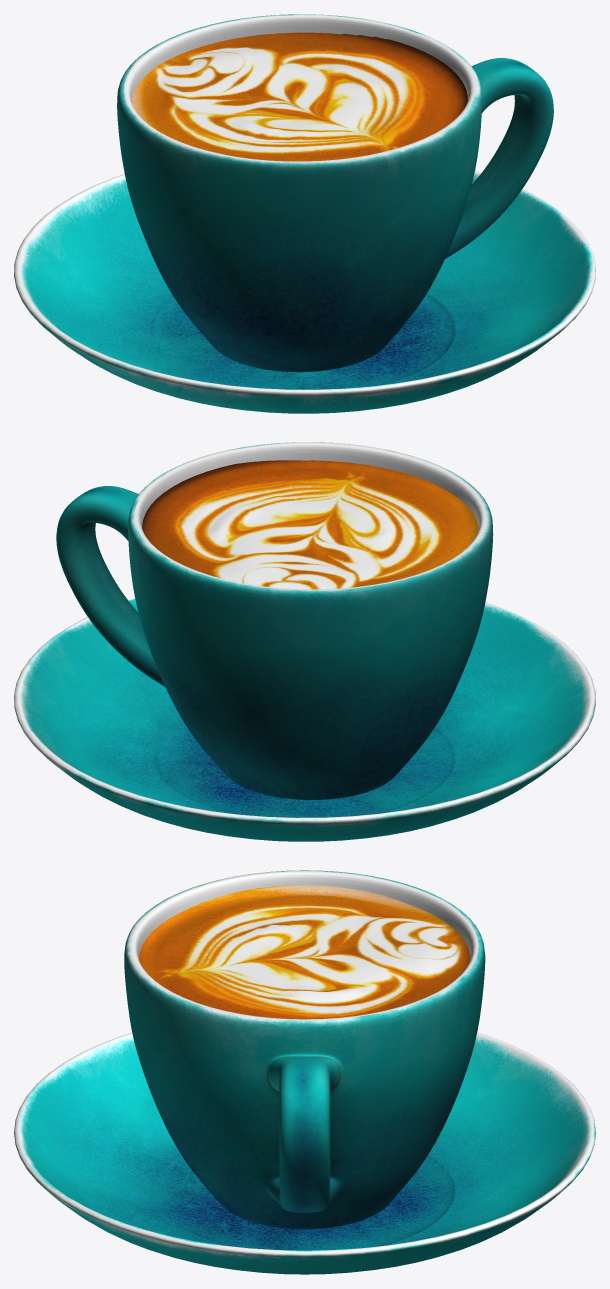
Rendered from Cafe.obj.
3 renders of one model, top to bottom at view 1: azimuth 30°, elevation 25°; view 2: azimuth 150°, elevation 25°; view 3: azimuth 270°, elevation 25°, orthographic.
Bounding box in the file's own units: 7.16 × 3.42 × 7.16.
